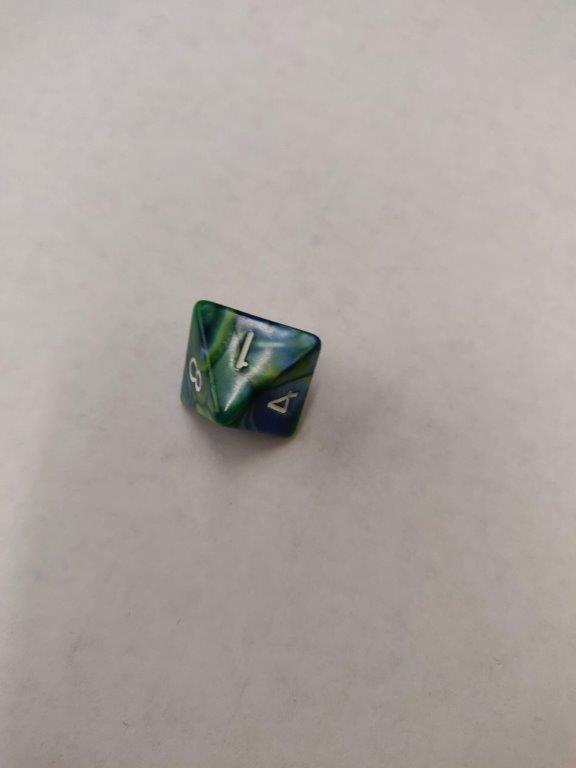d8-1: (180, 297, 322, 443)
